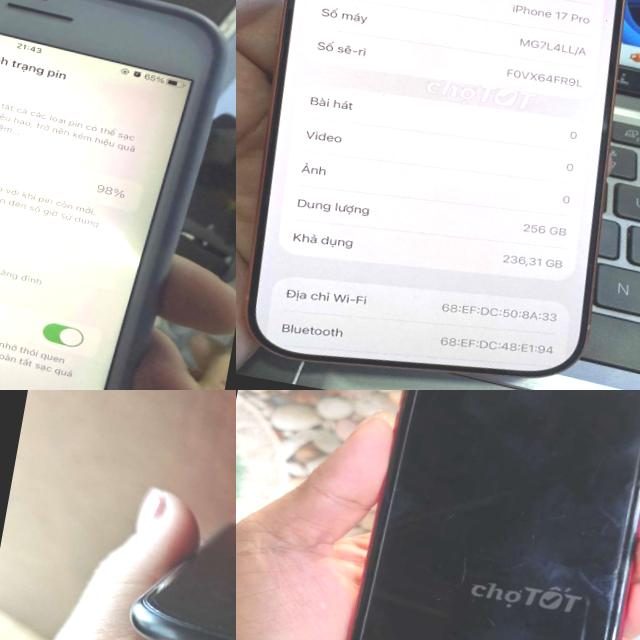gen_17: (236, 0, 640, 390)
gen_7_8: (0, 0, 236, 390), (336, 390, 640, 640), (113, 499, 236, 640)
scratch: (584, 500, 640, 640)
